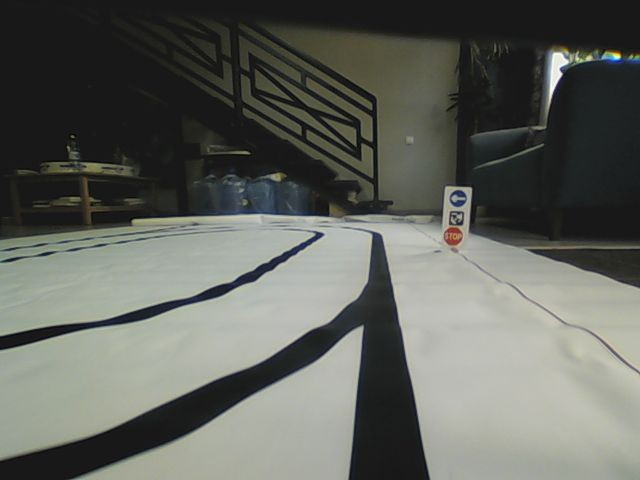Stop: (443, 227, 463, 245)
